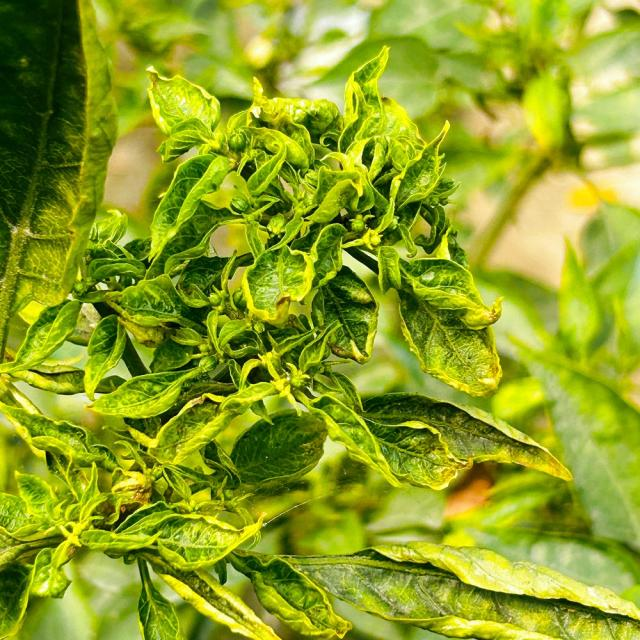Chilli_Leaf_Curl: (1, 38, 637, 638), (240, 540, 639, 638), (309, 388, 574, 491)
